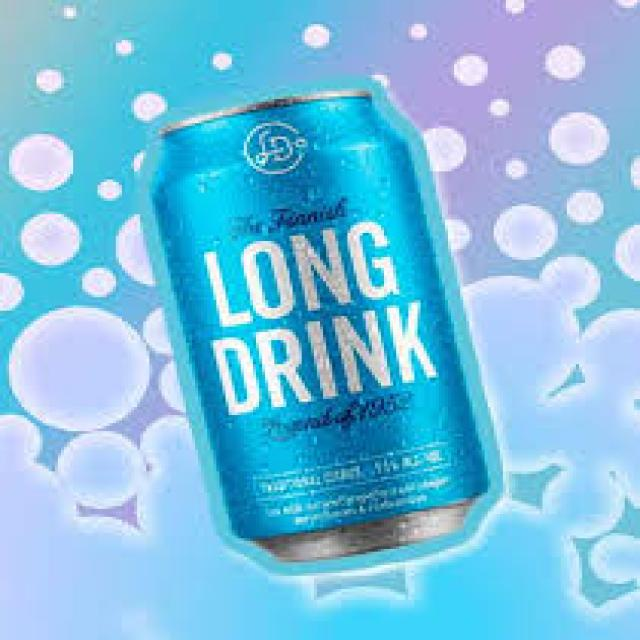Cans: (134, 83, 506, 586)
